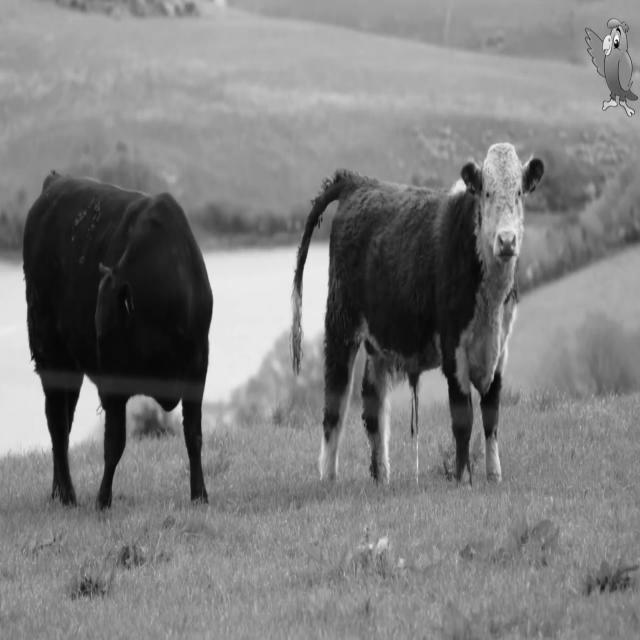cow: (292, 142, 544, 484), (24, 174, 212, 508)
